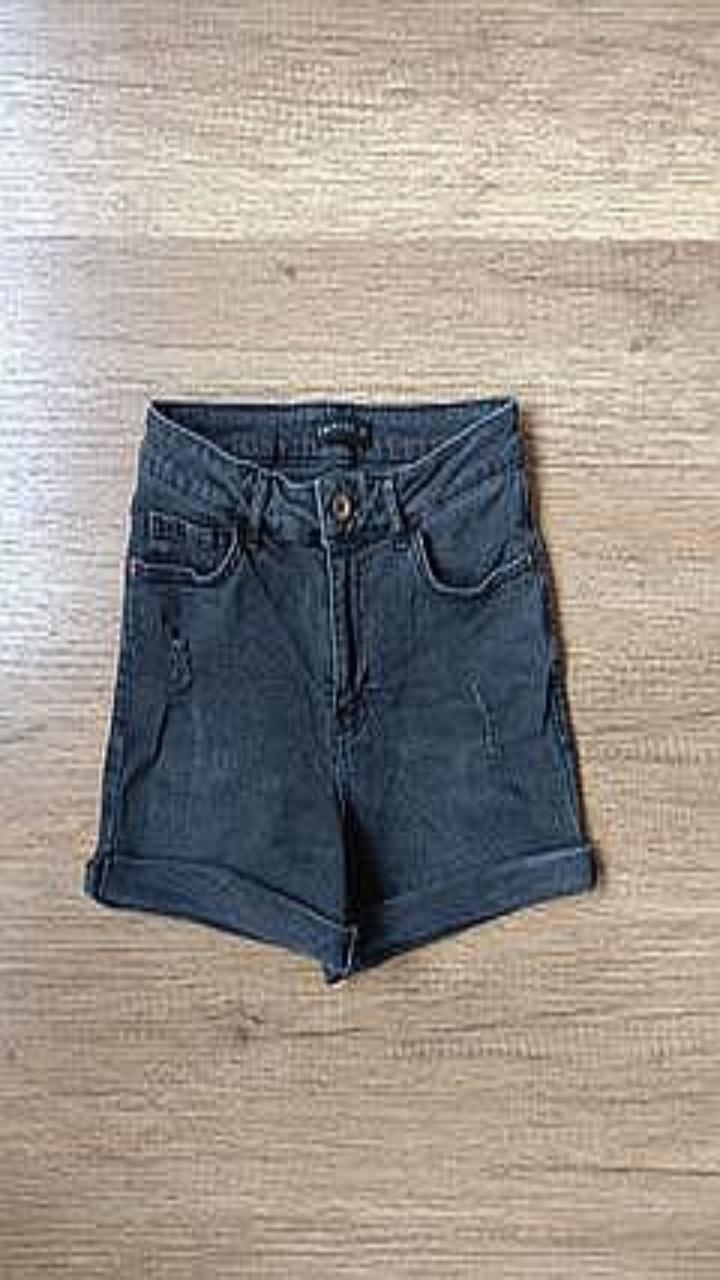Shorts: (85, 397, 595, 982)
